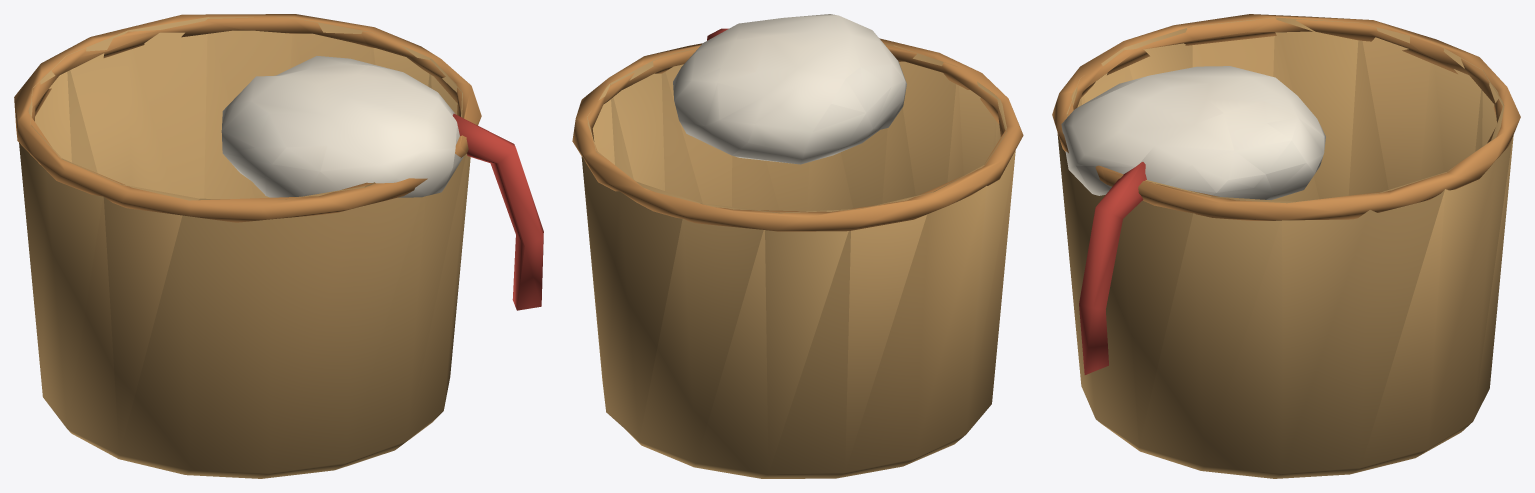
File: den_laundry_basket_lod2.glb
3 renders of one model, left to right at view 1: azimuth 30°, elevation 25°; view 2: azimuth 150°, elevation 25°; view 3: azimuth 270°, elevation 25°, orthographic. The views are drawn at different scales.
Parts seen in each view (by area): view 1: den_laundry_basket.001; view 2: den_laundry_basket.001; view 3: den_laundry_basket.001.
Part boxes in pixels (x1,y1,x2,y2): den_laundry_basket.001: [14, 14, 543, 478]; den_laundry_basket.001: [572, 14, 1023, 478]; den_laundry_basket.001: [1052, 14, 1520, 478].
Bounding box in the file's own units: 31.42 × 24.68 × 31.58.
